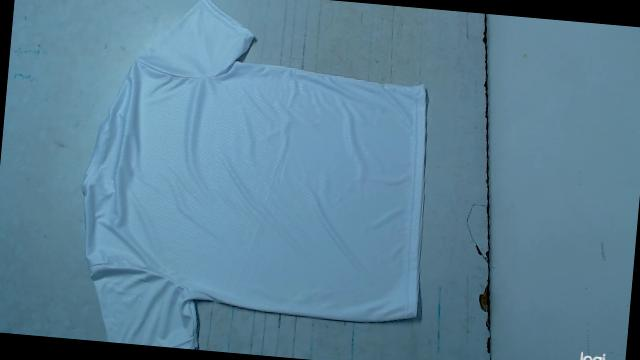new-garment: (82, 0, 426, 349)
